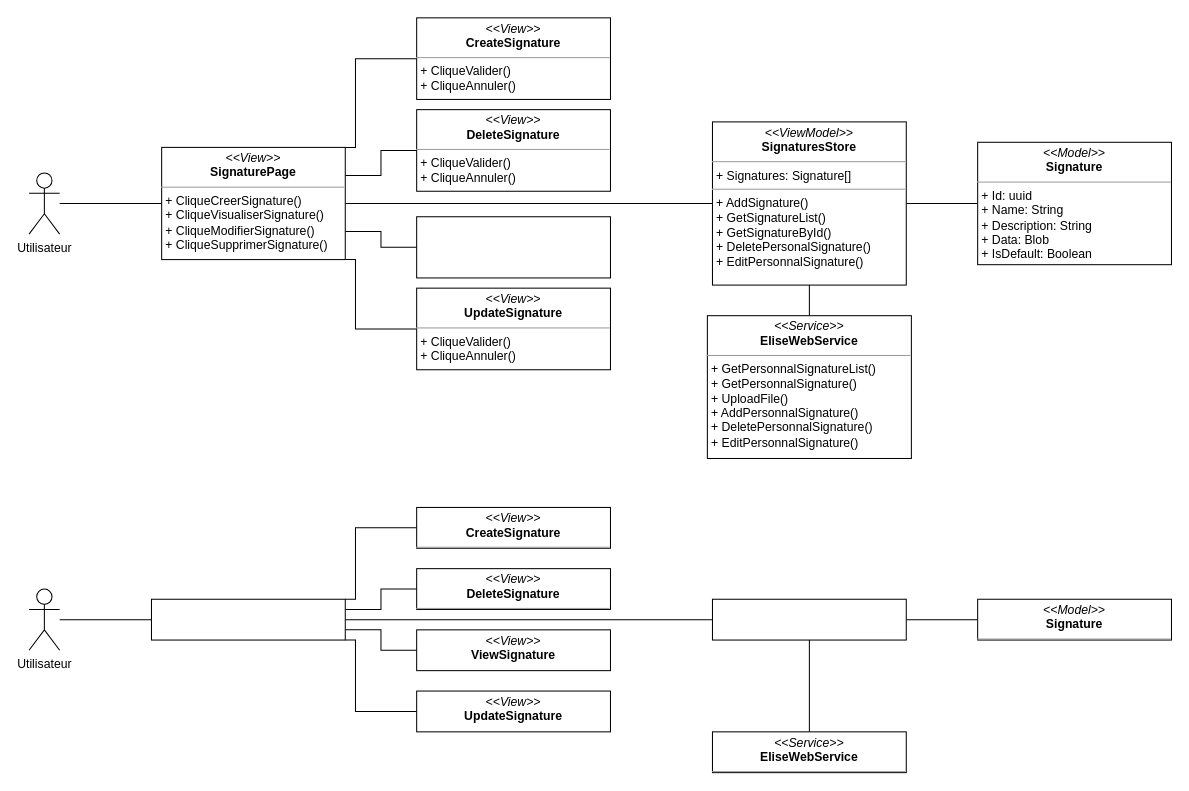
Some shapes in this 1189 by 791 pixel diagram are drawn without their labels. Each missing label, with the centre of its shape:
<<View>> SignaturePage: point 247,619
<<View>> ViewSignature + CliqueFermer(): point 513,247
<<ViewModel>> SignaturesStore: point 808,619
